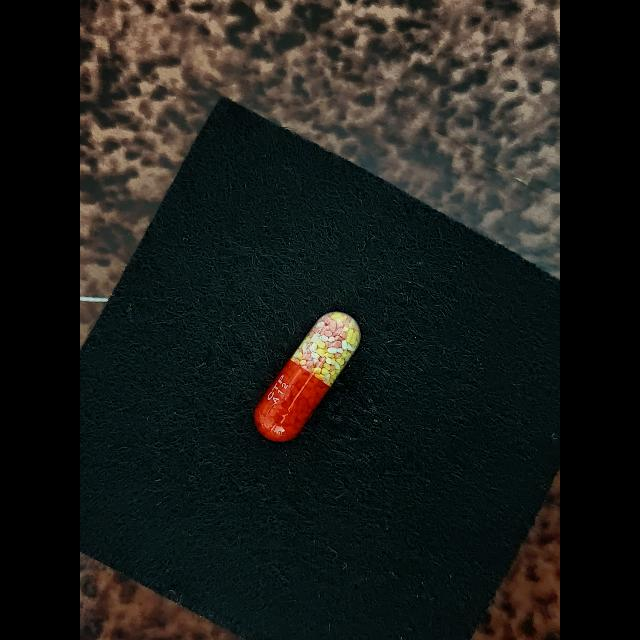Intact Capsule: (254, 312, 361, 441)
